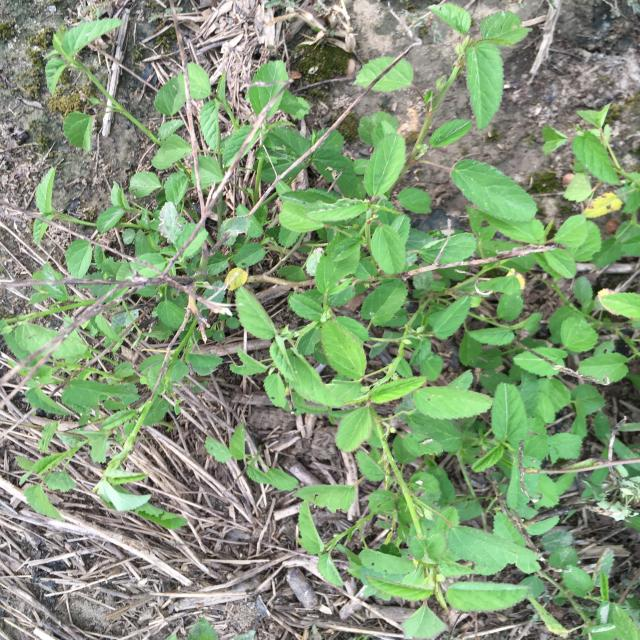PricklySida: (0, 2, 639, 639)
